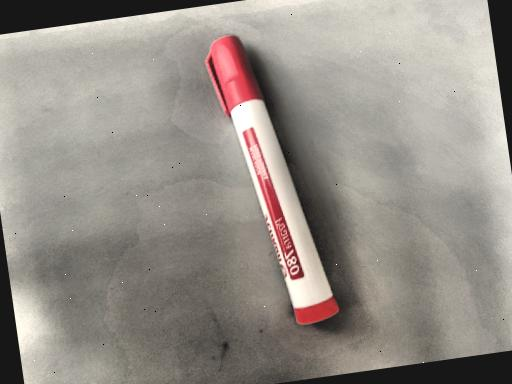marcador rojo: (206, 35, 339, 323)
